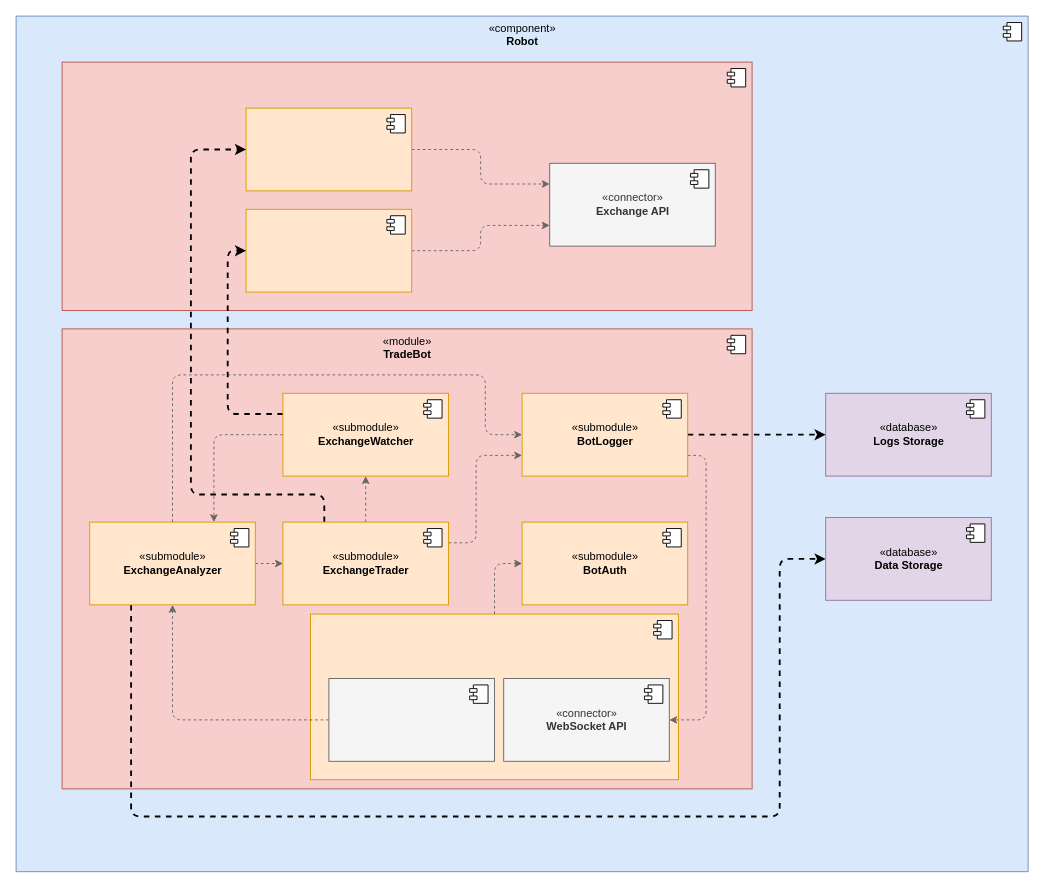
The diagram is 1044 pixels wide and 888 high, and some of its shapes have lost their labels. Here are the shapes that lost their labels. From the top down, the box of each, then its label:
(245, 107, 412, 191): «submodule» TradeModule
(61, 61, 752, 310): «module» ExchangeClient
(245, 208, 412, 292): «submodule» InfoModule
(310, 613, 678, 780): «submodule» BotApi
(328, 678, 494, 761): «connector» REST API
